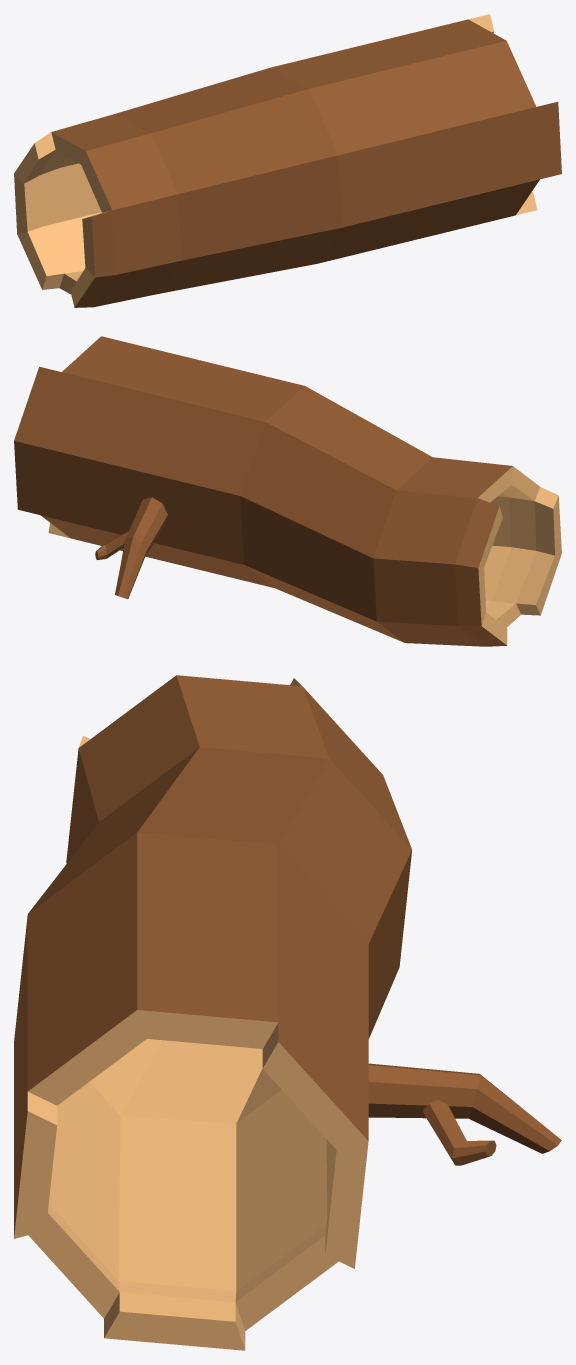
The model's file is Tree_Stump.fbx.
3 renders of one model, top to bottom at view 1: azimuth 30°, elevation 25°; view 2: azimuth 150°, elevation 25°; view 3: azimuth 270°, elevation 25°, orthographic. The views are drawn at different scales.
Visible parts, largest first — view 1: Circle; view 2: Circle; view 3: Circle.
Part boxes in pixels (x1,y1,x2,y2): Circle: [14, 14, 561, 307]; Circle: [14, 336, 561, 646]; Circle: [14, 675, 561, 1350].
Bounding box in the file's own units: 519 × 200 × 296.
